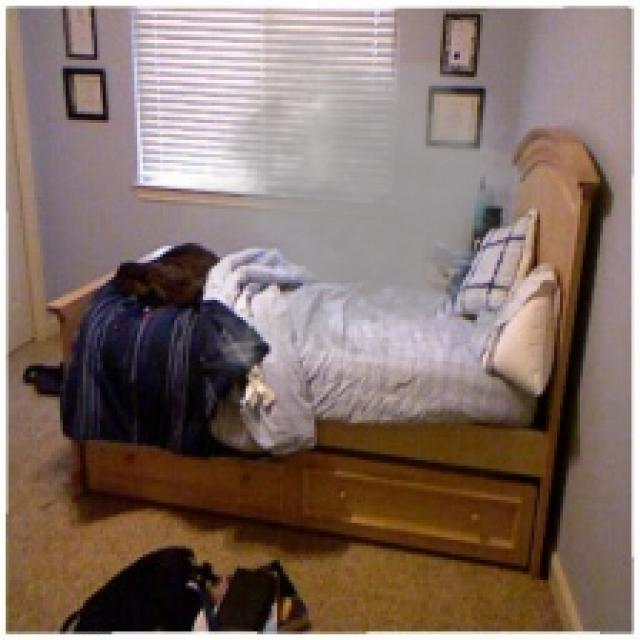smoke: (157, 23, 572, 383)
